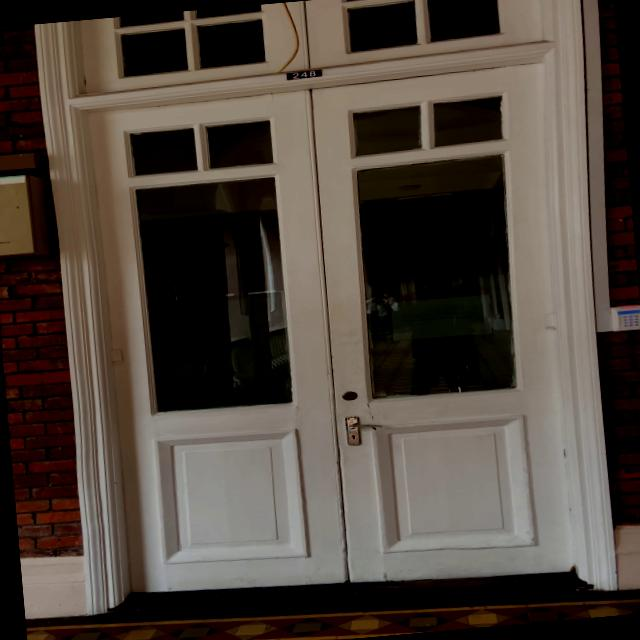room248: (284, 66, 326, 84)
